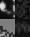torchT: (0, 0, 15, 19)
tree: (15, 19, 30, 37)
